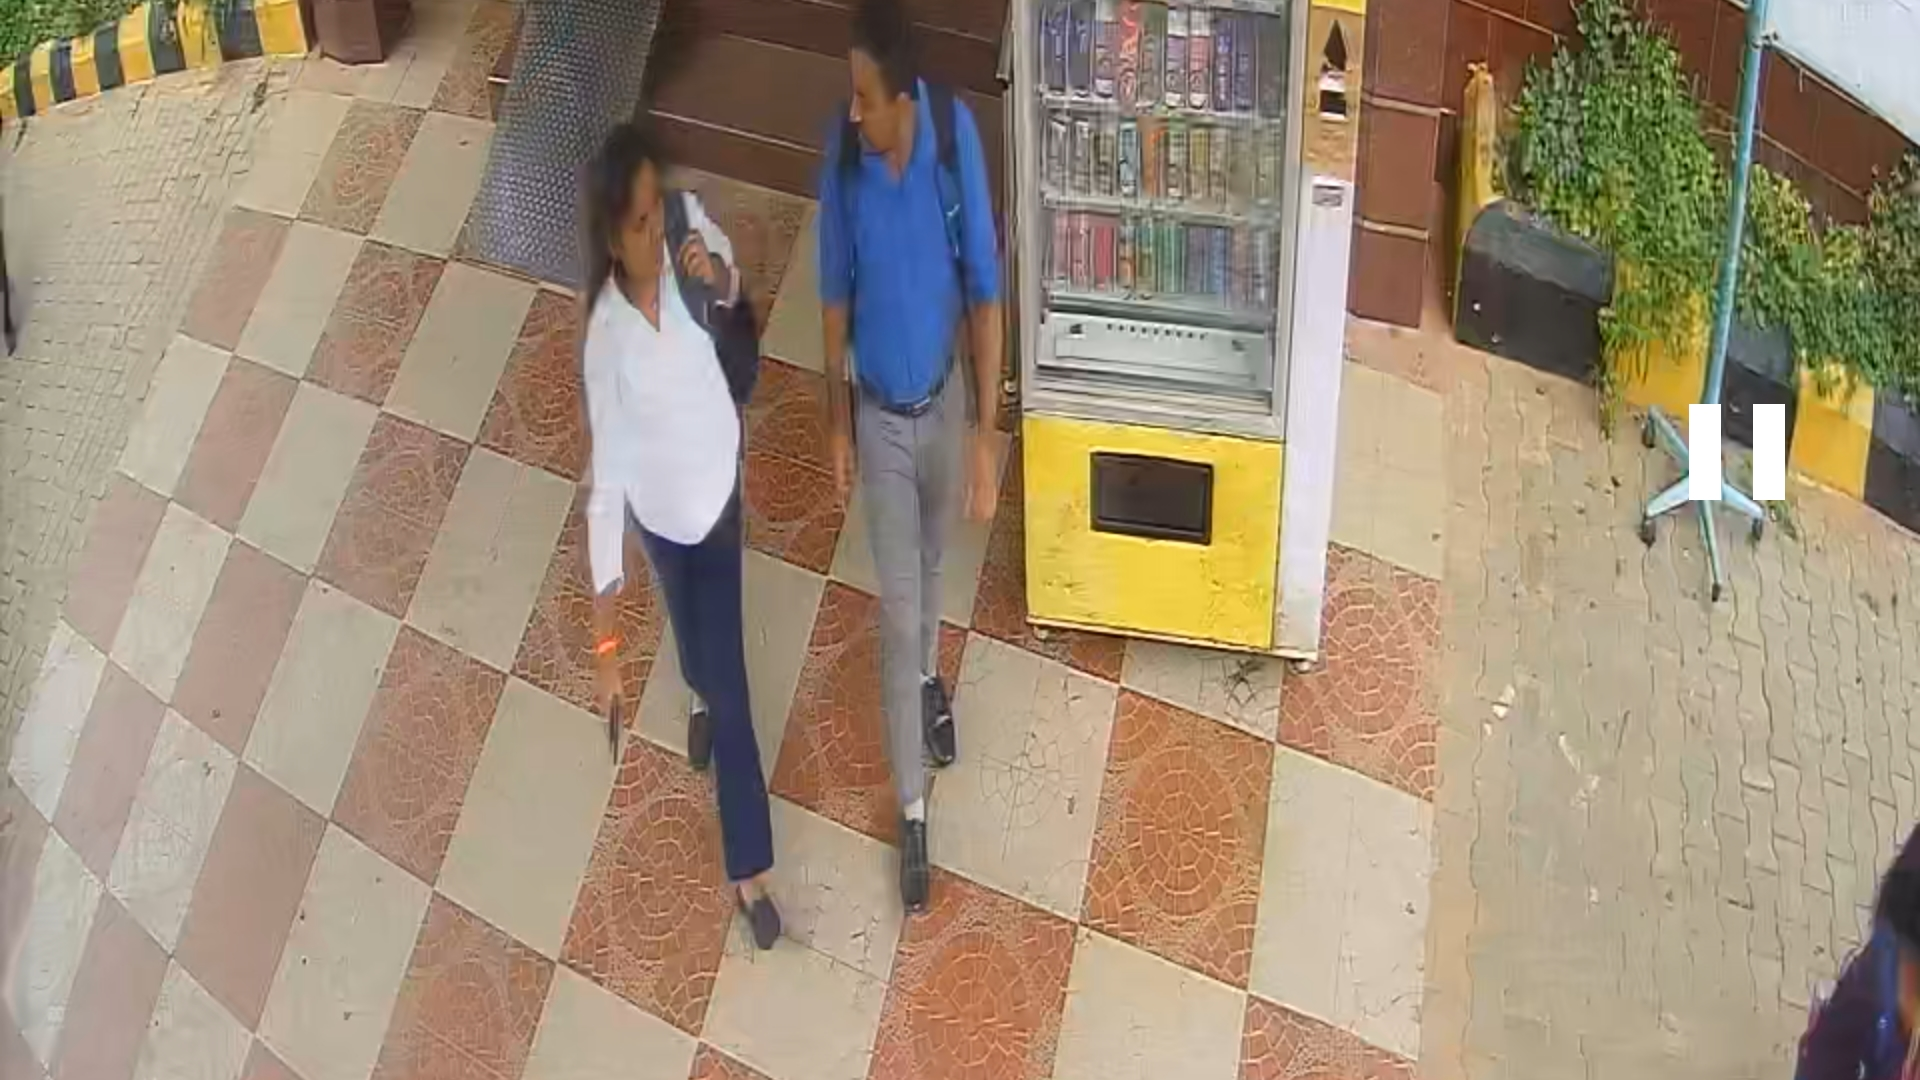intruder: (559, 120, 815, 957), (843, 1, 997, 918)
